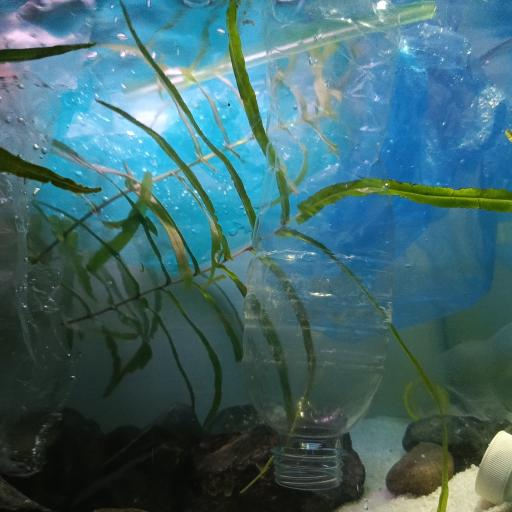bottle_cap: (472, 426, 512, 502)
plastic_bag: (51, 0, 332, 276), (290, 0, 511, 338), (0, 0, 139, 481)
plastic_bottle: (241, 0, 399, 486)
plastic_straw: (122, 3, 436, 105)
